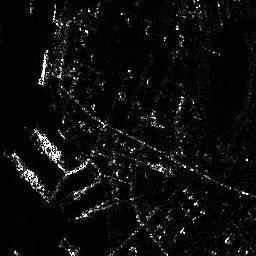ship: (1, 147, 52, 202), (26, 123, 71, 176), (36, 44, 52, 88)
